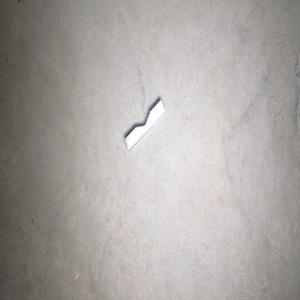ClampPart: (124, 98, 165, 151)
